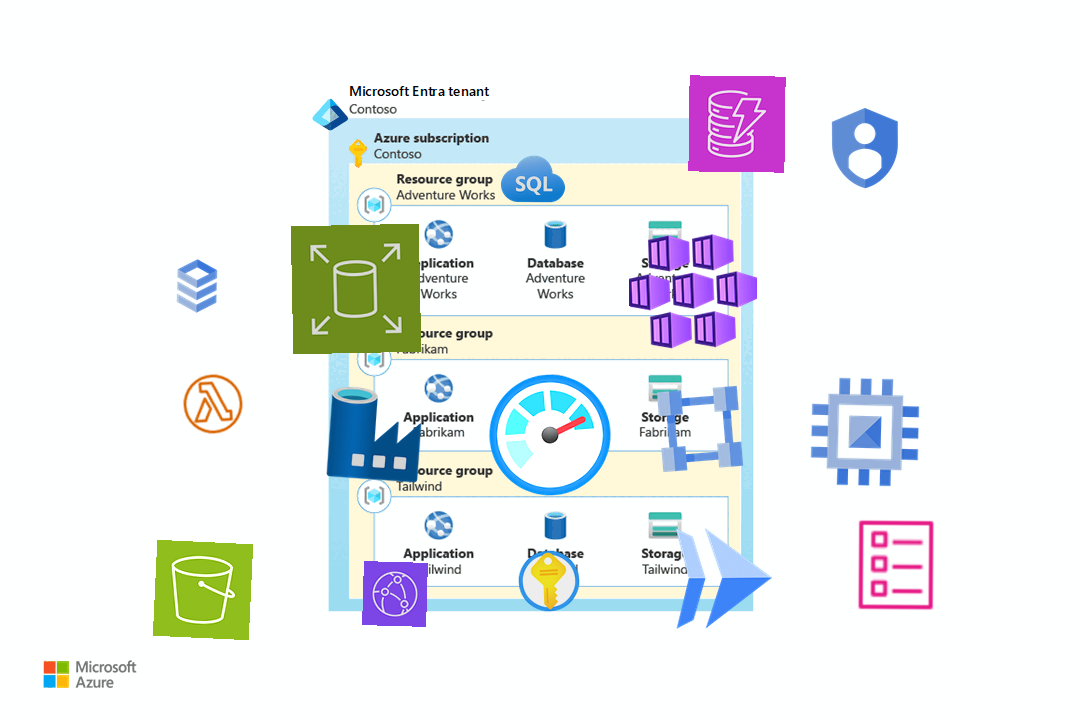aws_amazon_cloudfront: (362, 561, 428, 627)
aws_amazon_dynamodb: (688, 75, 786, 173)
aws_amazon_elastic_block_store: (290, 223, 422, 355)
aws_amazon_simple_storage_service: (152, 539, 254, 641)
aws_cloudformation_template: (846, 516, 944, 614)
aws_lambda_lambda_function: (179, 370, 247, 438)
azure_data_factories: (323, 382, 427, 486)
azure_key_vaults: (515, 547, 583, 615)
azure_kubernetes_services: (626, 223, 760, 357)
azure_monitor: (481, 366, 619, 504)
azure_sql: (500, 147, 566, 213)
gcp_cloud_run: (657, 513, 787, 643)
gcp_cloud_sql: (164, 253, 230, 319)
gcp_compute_engine: (799, 366, 931, 498)
gcp_identity_and_access_management: (816, 99, 914, 197)
gcp_virtual_private_cloud: (648, 377, 752, 481)
